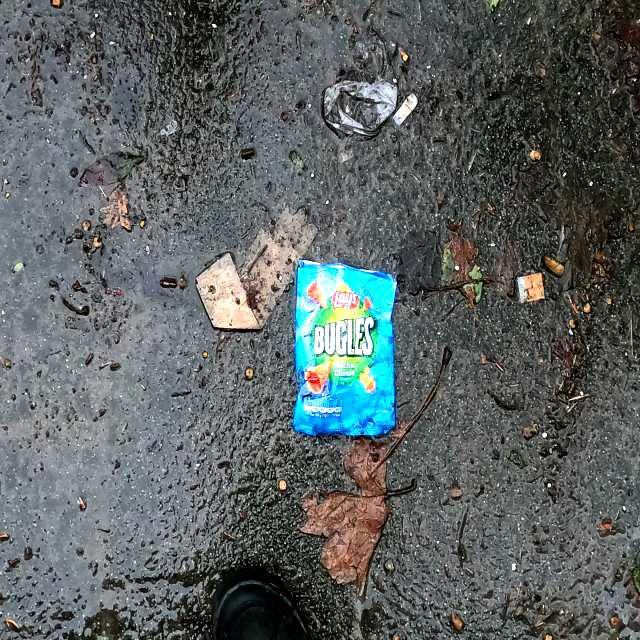Paper: (195, 202, 321, 331)
Plastic: (292, 257, 398, 437)
